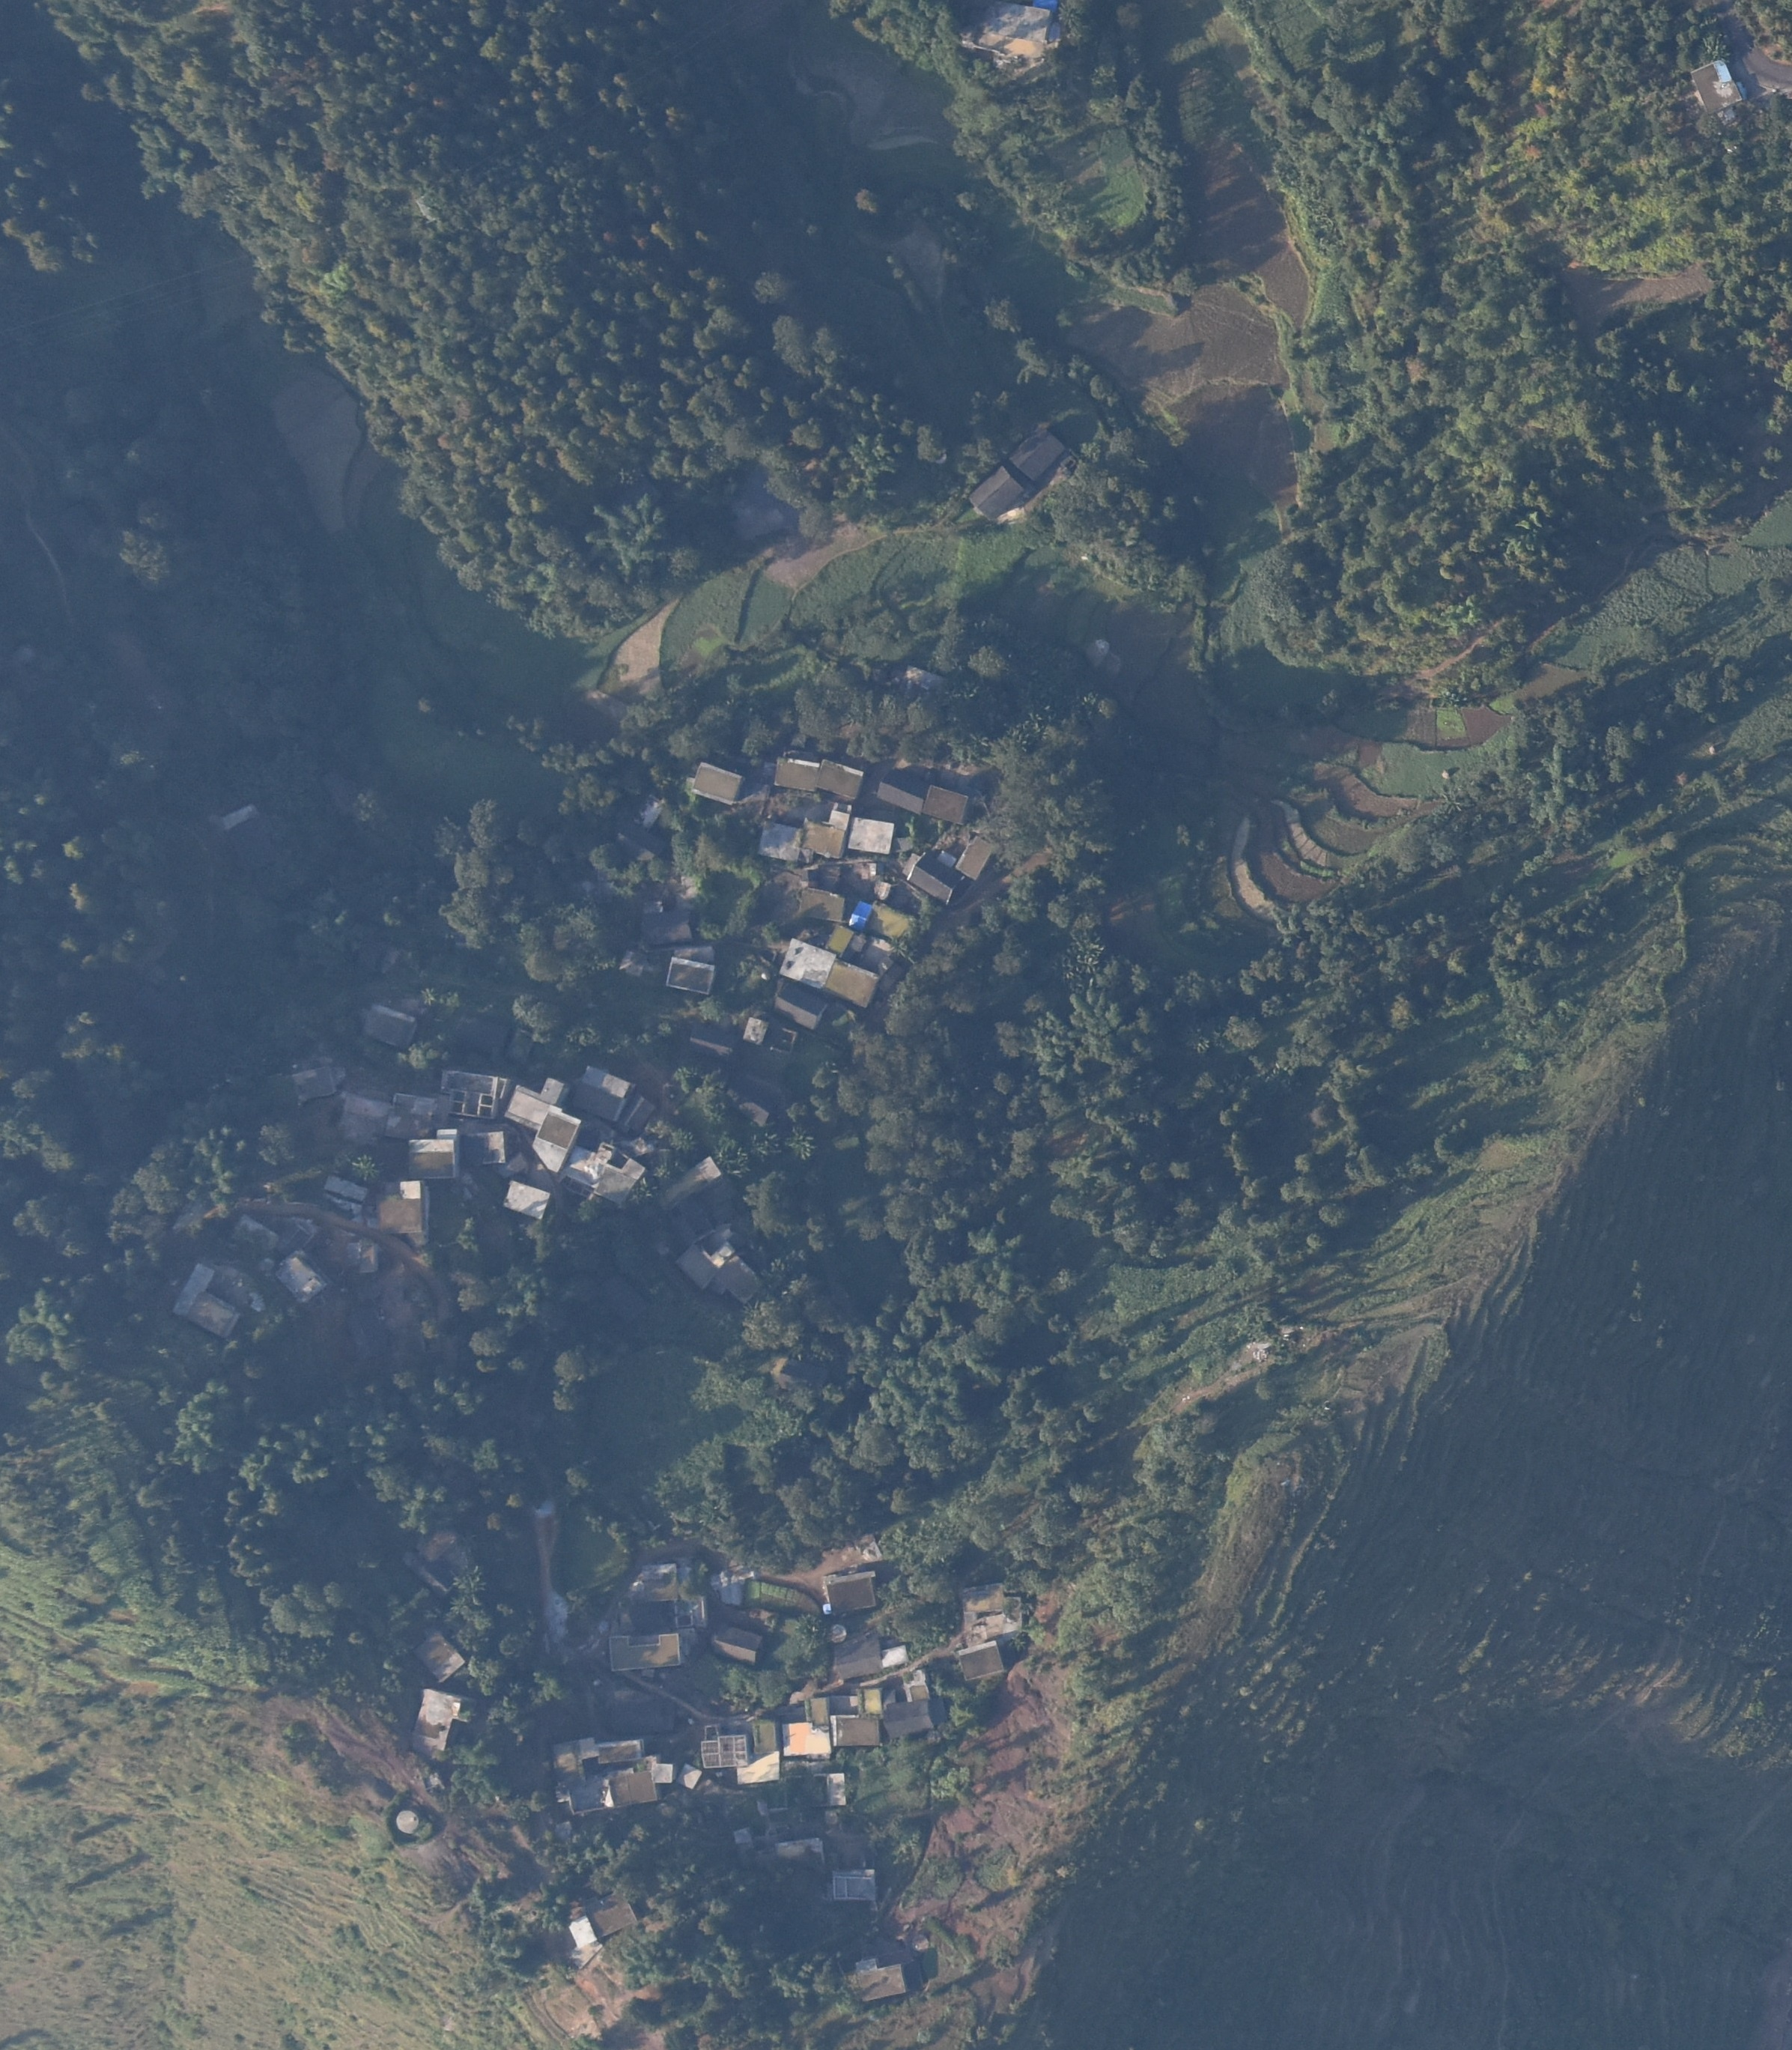building: (783, 929, 889, 1008), (549, 1740, 671, 1806), (511, 1076, 582, 1170), (560, 1142, 647, 1208), (574, 1070, 659, 1137), (675, 1238, 762, 1302), (701, 1719, 784, 1783), (174, 1266, 241, 1344), (976, 2, 1058, 63), (875, 777, 969, 825), (410, 1686, 469, 1759), (650, 1157, 730, 1206), (770, 757, 861, 798), (877, 1680, 941, 1736), (605, 1632, 687, 1675), (966, 464, 1023, 523), (962, 1583, 1022, 1639), (568, 1902, 640, 1947), (368, 1184, 425, 1238), (1691, 58, 1745, 115), (279, 1246, 331, 1306), (802, 807, 856, 863), (410, 1630, 467, 1682), (352, 1006, 418, 1051), (439, 1070, 500, 1119), (784, 1700, 835, 1757), (908, 854, 967, 903), (626, 1564, 692, 1607), (835, 1637, 906, 1677), (410, 1128, 464, 1180), (1013, 429, 1069, 479), (765, 981, 825, 1028), (832, 1693, 882, 1747), (234, 1217, 314, 1250), (823, 1569, 880, 1614), (706, 1625, 767, 1666), (664, 950, 720, 994), (861, 899, 919, 941), (854, 1956, 906, 2001), (793, 886, 847, 929), (687, 764, 743, 805), (338, 1095, 385, 1144), (687, 1025, 736, 1070), (847, 814, 896, 858), (387, 1095, 439, 1135), (760, 818, 802, 865), (502, 1182, 551, 1222), (321, 1177, 370, 1215), (959, 1642, 1006, 1679), (955, 833, 990, 879), (288, 1065, 335, 1098), (462, 1135, 507, 1166), (830, 1869, 875, 1900), (347, 1239, 384, 1278), (774, 1836, 825, 1860), (823, 1769, 851, 1806), (744, 1016, 767, 1044), (673, 1762, 701, 1785), (730, 1827, 755, 1848)
well: (394, 1809, 422, 1836), (826, 1623, 851, 1646)
